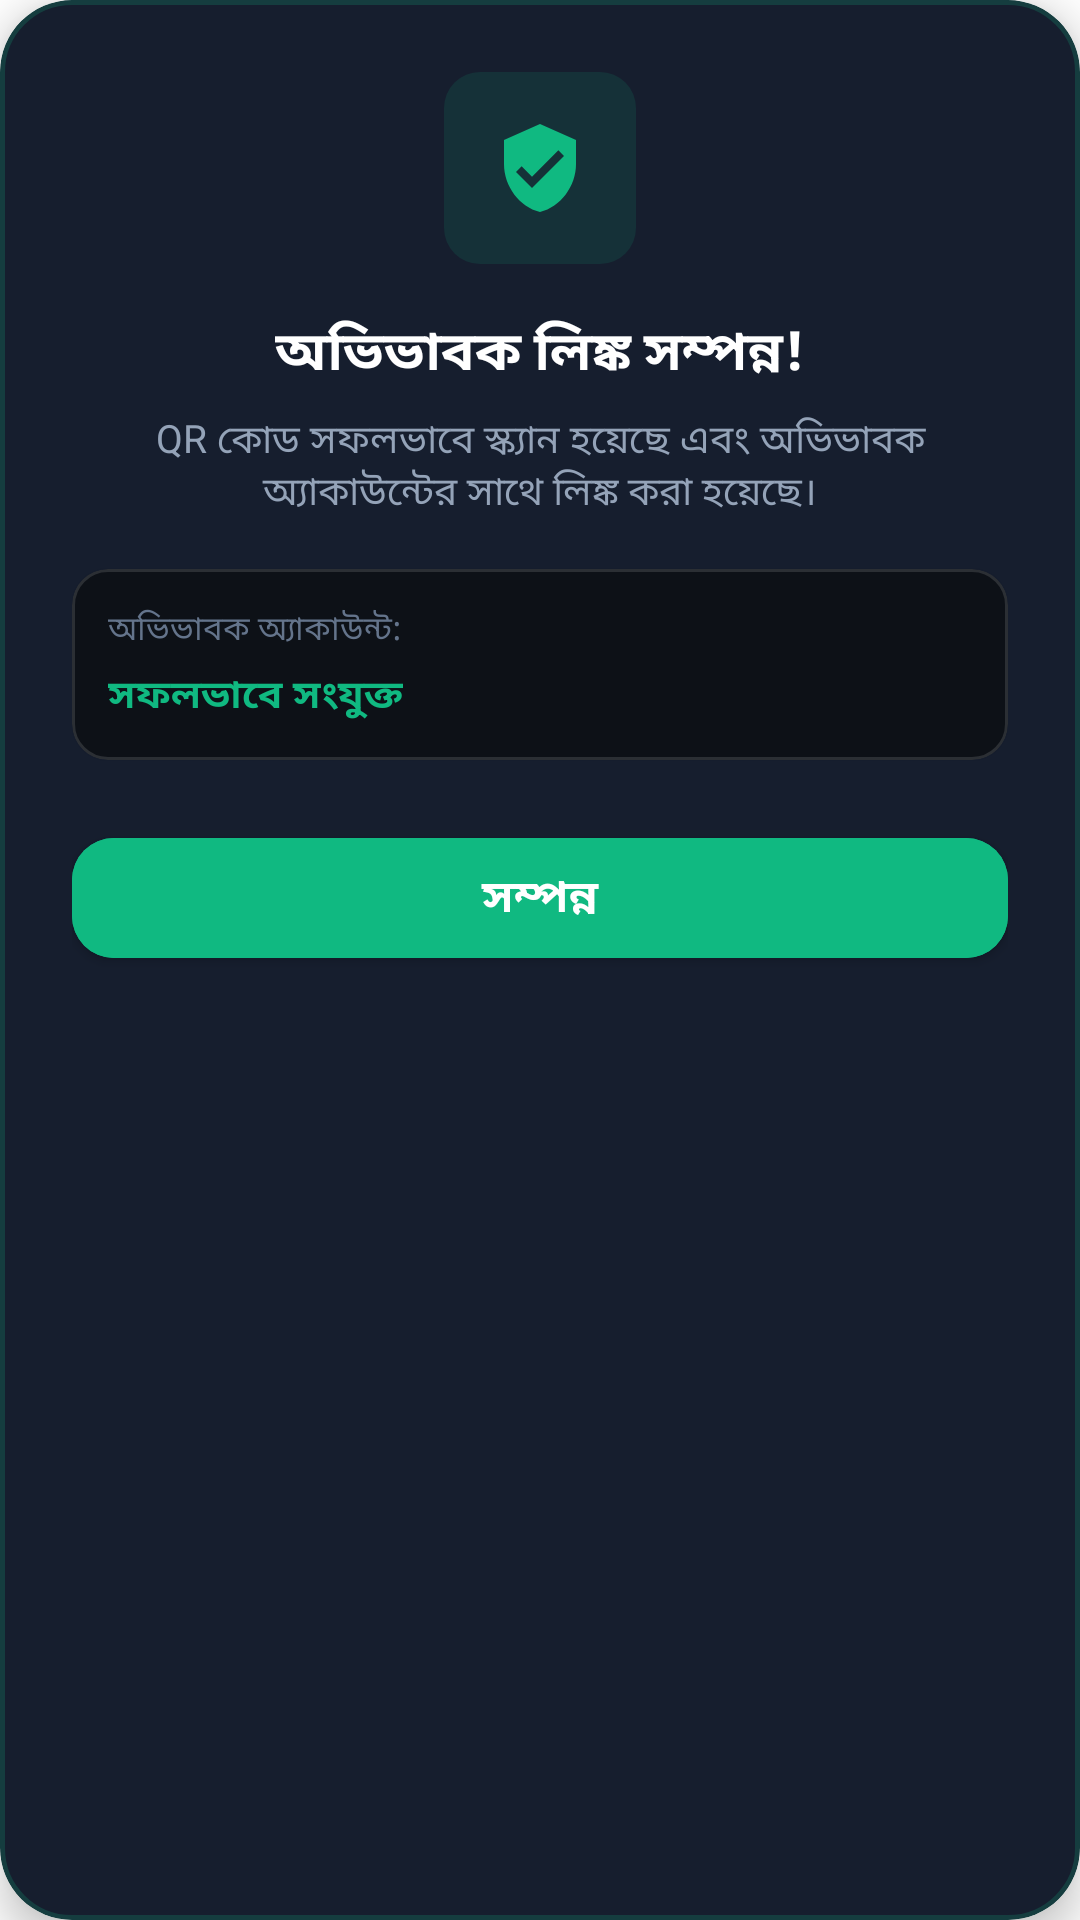

Locate icon controls on the screen. Image size 1080 x 1920, boxes as (x1,y1,x2,y2).
privacy shield: (504,124,576,212)
